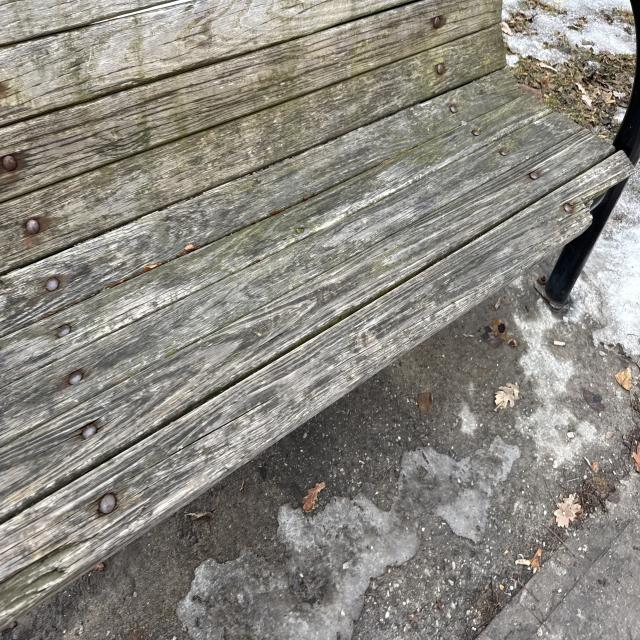Bench: (0, 0, 638, 330)
